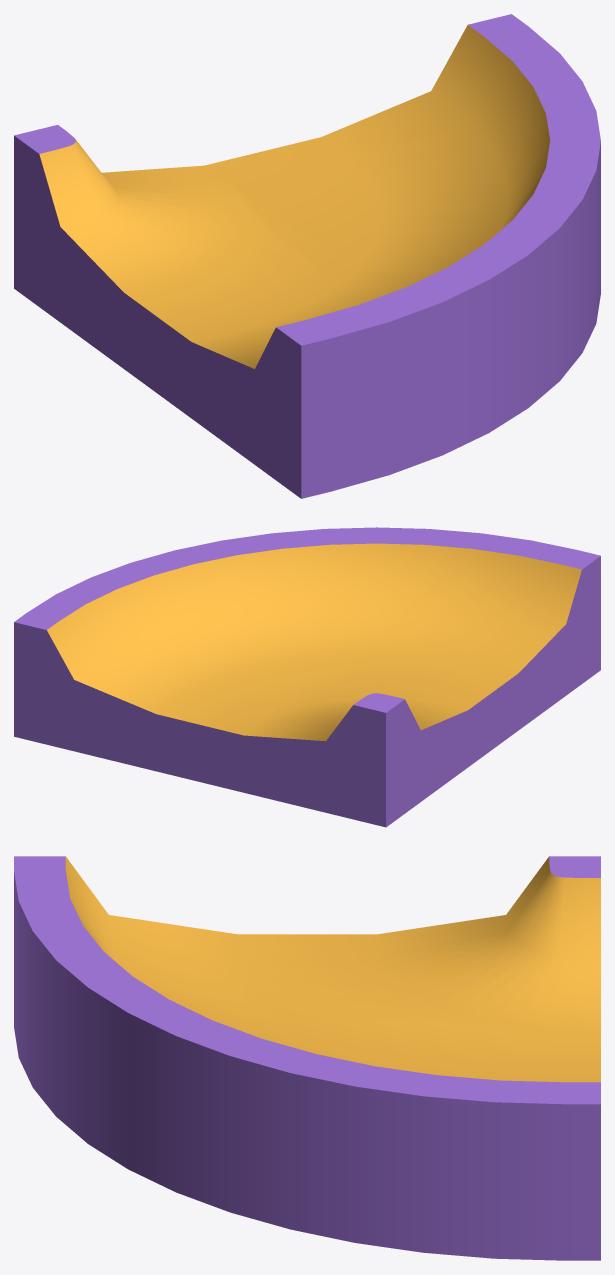
The model's file is curve-wide.glb.
3 views of the same model, one above another, from view 1: azimuth 30°, elevation 25°; view 2: azimuth 150°, elevation 25°; view 3: azimuth 270°, elevation 25° (orthographic). The views are drawn at different scales.
Parts seen in each view (by area): view 1: curve-wide; view 2: curve-wide; view 3: curve-wide.
Part boxes in pixels (x1,y1,x2,y2): curve-wide: [14, 14, 600, 498]; curve-wide: [14, 527, 600, 827]; curve-wide: [14, 856, 600, 1260].
Size of the model in its own units: 1.7 by 0.5 by 1.7.
Materials: 1 (1 with a texture image).
